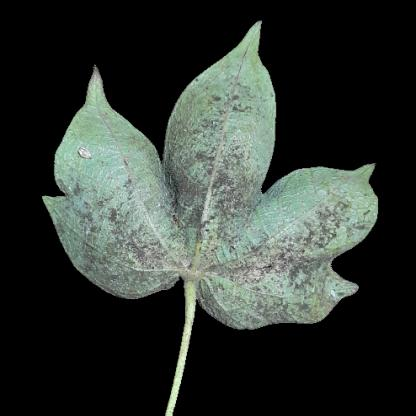curl_stage2: (75, 120, 145, 182), (274, 189, 326, 213)
sooty: (172, 128, 254, 240), (63, 206, 168, 289), (214, 252, 330, 320)
